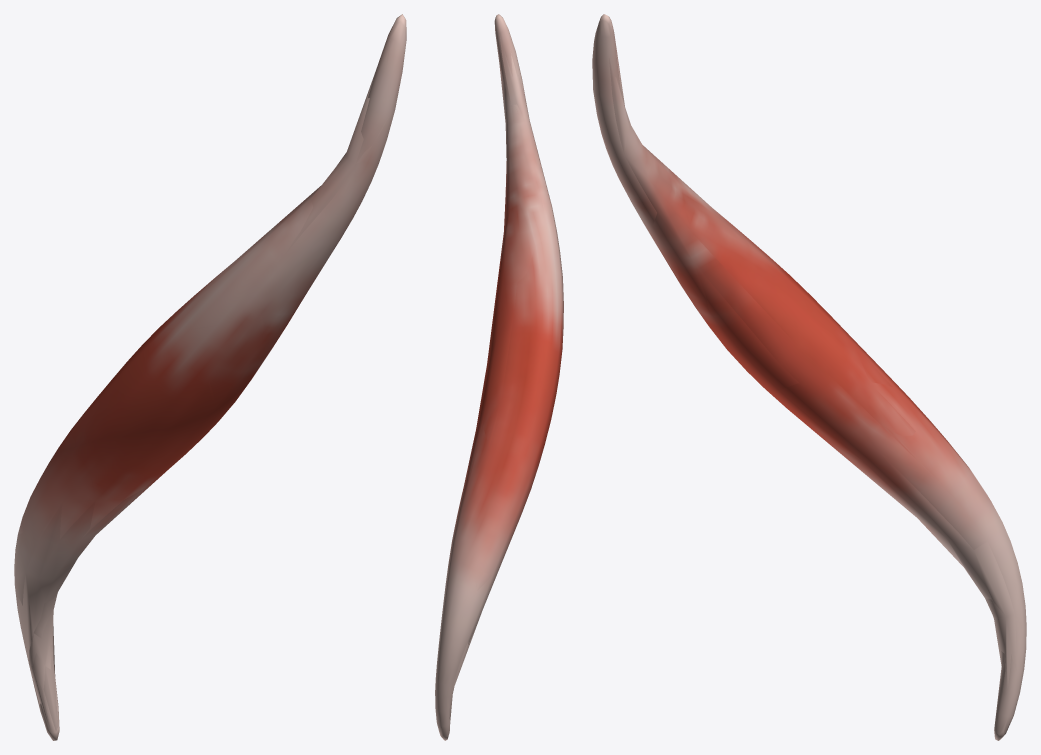
File: L peroneus tertius.fbx
3 renders of one model, left to right at view 1: azimuth 30°, elevation 25°; view 2: azimuth 150°, elevation 25°; view 3: azimuth 270°, elevation 25°, orthographic. The views are drawn at different scales.
Visible parts, largest first — view 1: L peroneus tertius, L peroneus tertius low; view 2: L peroneus tertius, L peroneus tertius low; view 3: L peroneus tertius low, L peroneus tertius.
Part boxes in pixels (x1,y1,x2,y2): L peroneus tertius: (14, 14, 406, 740); L peroneus tertius low: (18, 39, 390, 731); L peroneus tertius: (435, 14, 563, 740); L peroneus tertius low: (445, 34, 562, 723); L peroneus tertius low: (609, 34, 1017, 727); L peroneus tertius: (592, 14, 1026, 740).
Bounding box in the file's own units: 4.16 × 17.35 × 8.67.
